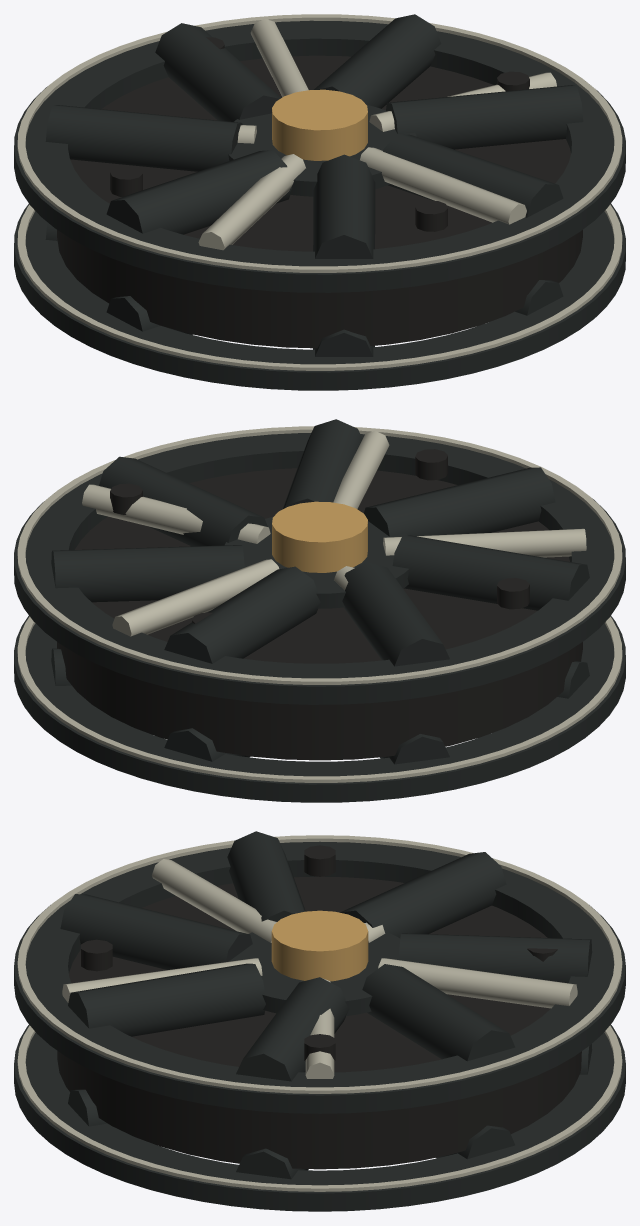
File: Courier.glb
3 renders of one model, top to bottom at view 1: azimuth 30°, elevation 25°; view 2: azimuth 150°, elevation 25°; view 3: azimuth 270°, elevation 25°, orthographic.
Parts seen in each view (by area): view 1: Stamped outer rim (×2), Pressed web (×10), Wound correction stock, Pressed lip (×2), Raised spoke (×4), Spindle, Spool hub, Take-up pin (×3); view 2: Stamped outer rim (×2), Pressed web (×10), Wound correction stock, Pressed lip (×2), Raised spoke (×4), Spindle, Spool hub, Take-up pin (×3); view 3: Stamped outer rim (×2), Pressed web (×10), Wound correction stock, Pressed lip (×2), Raised spoke (×4), Spindle, Spool hub, Take-up pin (×3).
Boxes of the visible parts, left/top/right/bottom form: Stamped outer rim (×2): left=14, top=20, right=625, bottom=390; Pressed web (×10): left=45, top=14, right=583, bottom=356; Wound correction stock: left=57, top=55, right=582, bottom=348; Pressed lip (×2): left=17, top=14, right=622, bottom=370; Raised spoke (×4): left=198, top=18, right=556, bottom=250; Spindle: left=272, top=89, right=367, bottom=160; Spool hub: left=228, top=104, right=416, bottom=196; Take-up pin (×3): left=110, top=71, right=529, bottom=231; Stamped outer rim (×2): left=14, top=433, right=625, bottom=802; Pressed web (×10): left=51, top=419, right=589, bottom=764; Wound correction stock: left=57, top=468, right=582, bottom=760; Pressed lip (×2): left=17, top=426, right=622, bottom=782; Raised spoke (×4): left=82, top=431, right=586, bottom=636; Spindle: left=272, top=501, right=367, bottom=572; Spool hub: left=225, top=516, right=409, bottom=608; Take-up pin (×3): left=110, top=449, right=529, bottom=609; Stamped outer rim (×2): left=14, top=841, right=625, bottom=1211; Pressed web (×10): left=60, top=831, right=592, bottom=1179; Wound correction stock: left=57, top=876, right=581, bottom=1169; Pressed lip (×2): left=17, top=835, right=622, bottom=1191; Raised spoke (×4): left=62, top=859, right=577, bottom=1078; Spindle: left=271, top=910, right=368, bottom=981; Spool hub: left=229, top=932, right=400, bottom=1016; Take-up pin (×3): left=81, top=845, right=335, bottom=1061.
Size of the model in its own units: 0.85 by 0.253 by 0.85.
